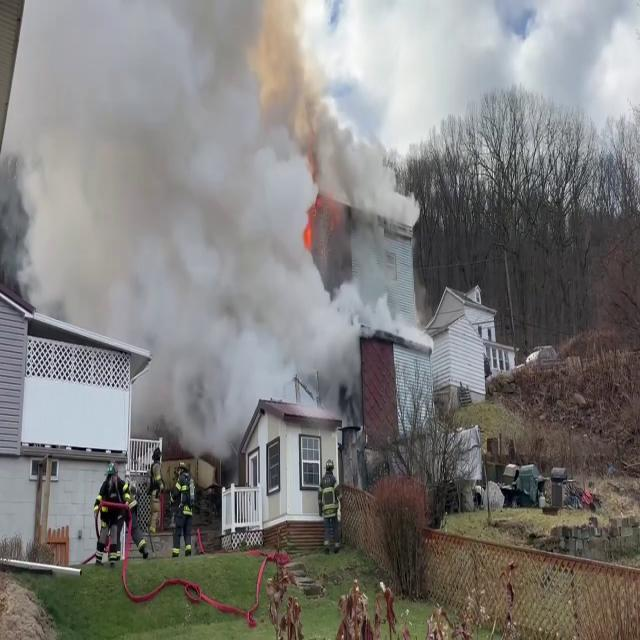Smoke: (0, 0, 422, 437)
